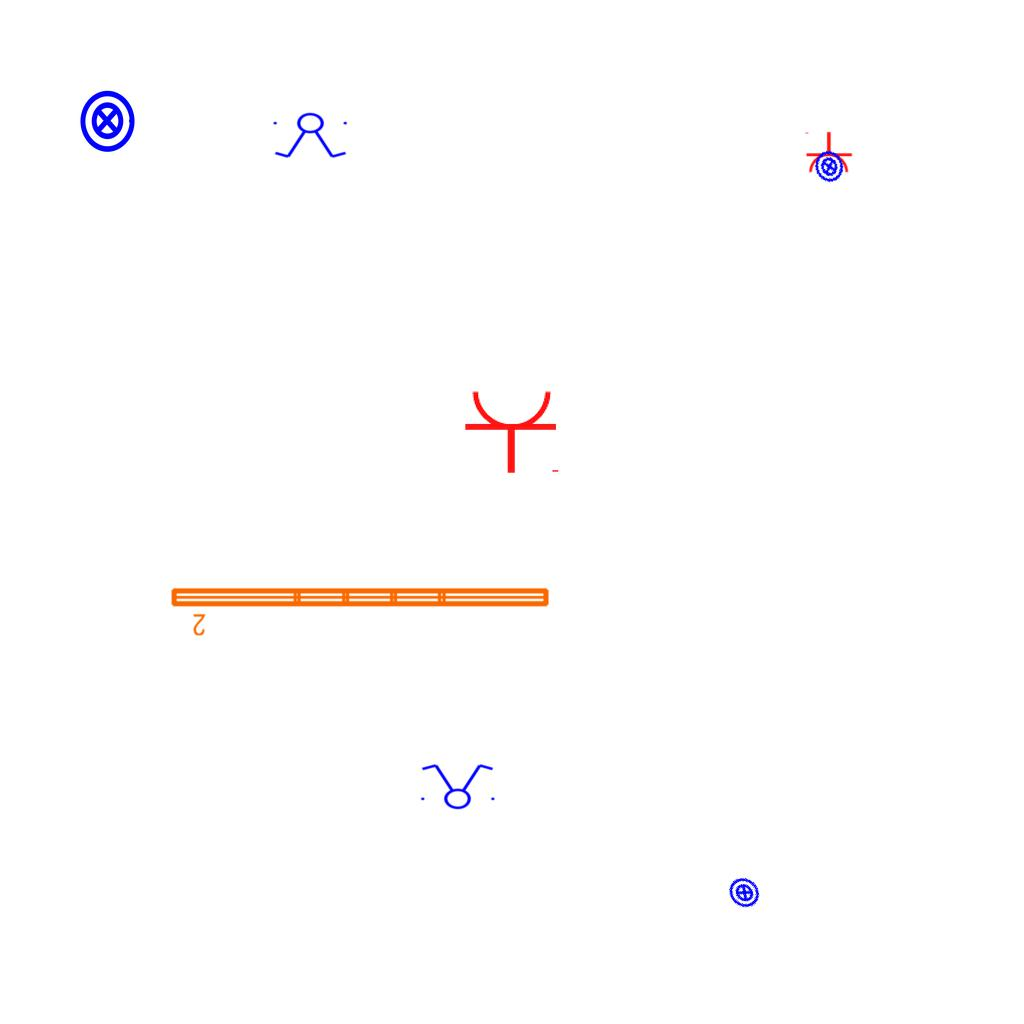Ambulanz_Pendelleuchte_LED: (167, 582, 554, 638)
Schukosteckdose_einfach: (463, 388, 563, 475), (803, 131, 853, 174)
Serienschalter: (415, 762, 499, 810), (269, 112, 353, 160)
Taster_beleuchtet: (74, 88, 140, 154), (721, 869, 768, 916), (809, 146, 850, 187)
